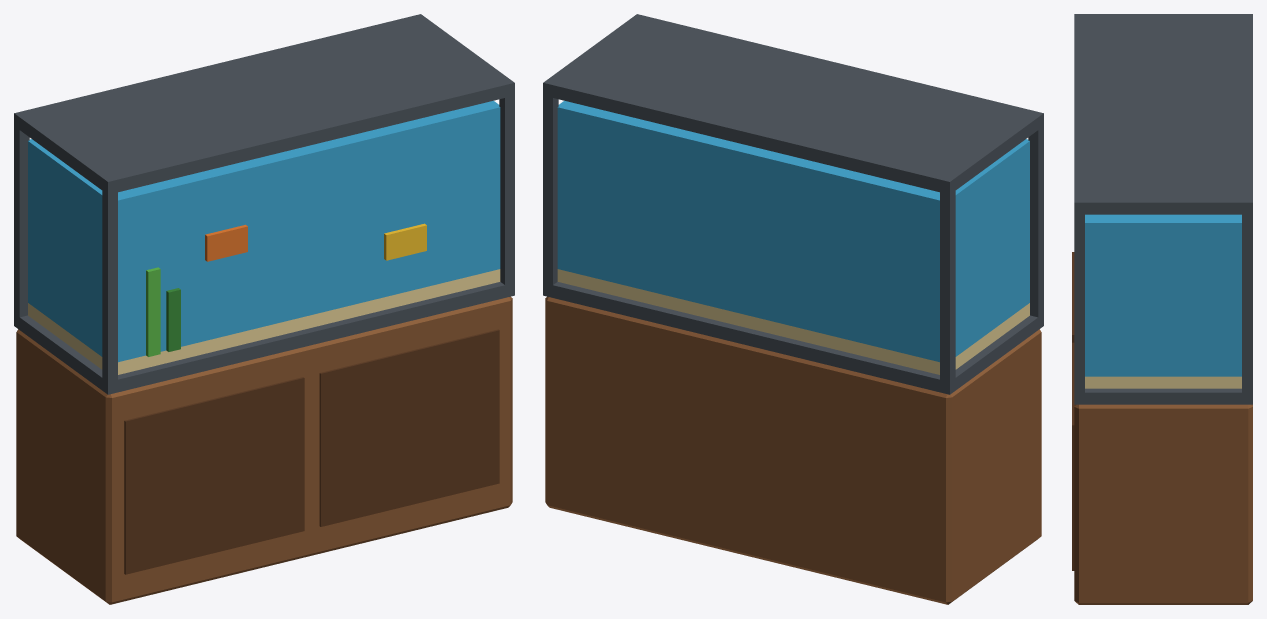
File: FUR_Aquarium.fbx
3 views of the same model, side by side, from view 1: azimuth 30°, elevation 25°; view 2: azimuth 150°, elevation 25°; view 3: azimuth 270°, elevation 25° (orthographic). The views are drawn at different scales.
Visible parts, largest first — view 1: FUR_Aquarium; view 2: FUR_Aquarium; view 3: FUR_Aquarium.
Boxes of the visible parts, left/top/right/bottom form: FUR_Aquarium: left=14, top=14, right=514, bottom=604; FUR_Aquarium: left=543, top=14, right=1043, bottom=604; FUR_Aquarium: left=1072, top=14, right=1252, bottom=604.
Size of the model in its own units: 5 by 5 by 2.03.
